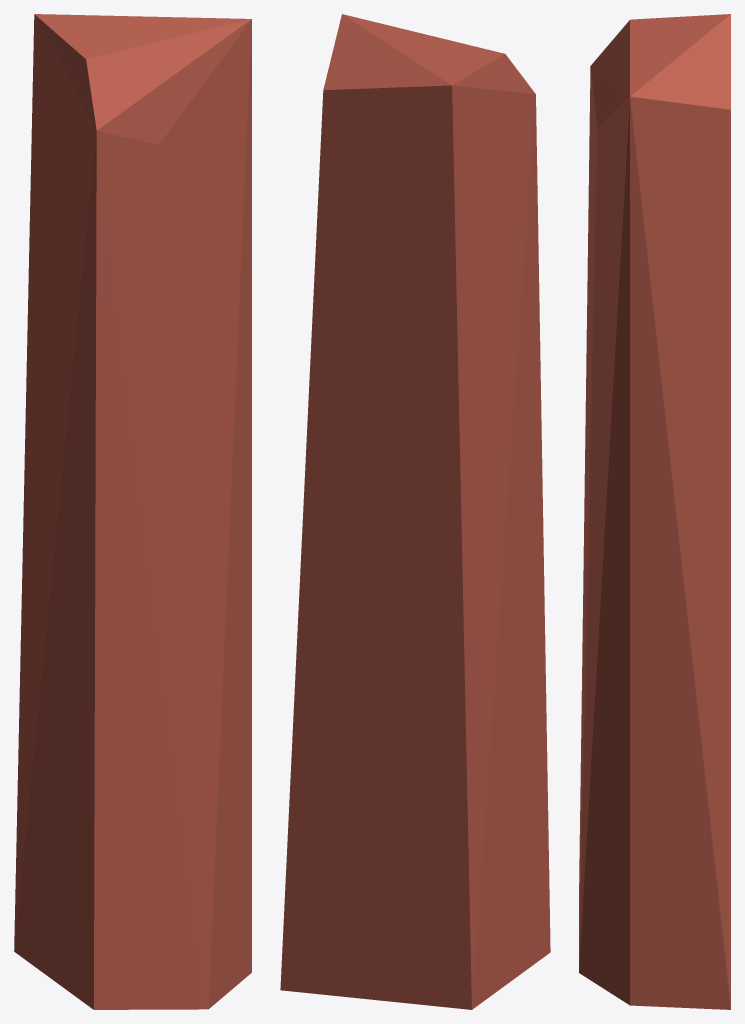
The picture shows the model from 3 angles, left to right: view 1: azimuth 30°, elevation 25°; view 2: azimuth 150°, elevation 25°; view 3: azimuth 270°, elevation 25°; orthographic projection. The views are drawn at different scales.
Bounding box in the file's own units: 3.58 × 16.9 × 2.54.
